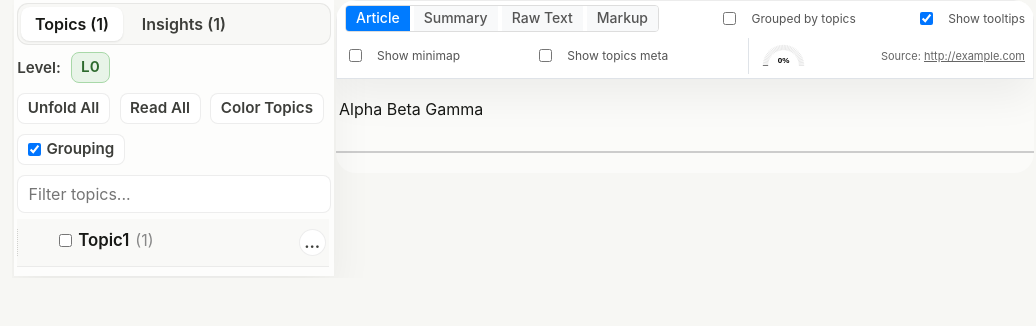
Test: TextPage raw text navigation › opens topic menu when [source] is clicked on a bullet
This screenshot has width=1036, height=326.
Expected: the text "Source:" is shown, [881,49,921,63]
Click the button "Summary" at {"x": 456, "y": 18}, box [414,6,498,31]
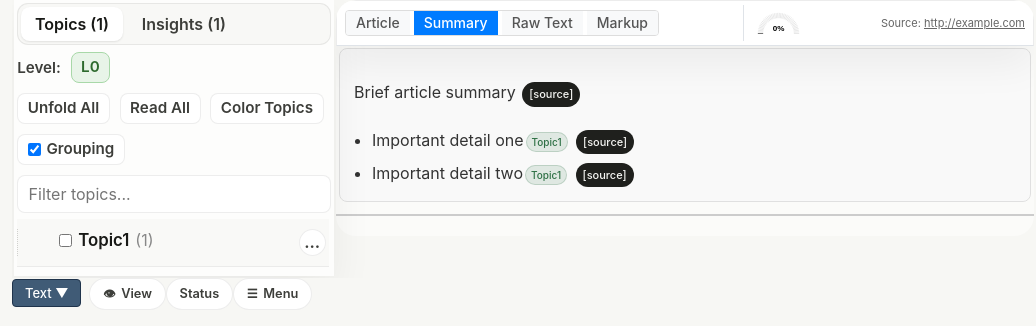
Click the button "[source]" next to "Brief article summary" at {"x": 551, "y": 94}, box [522,82,580,106]
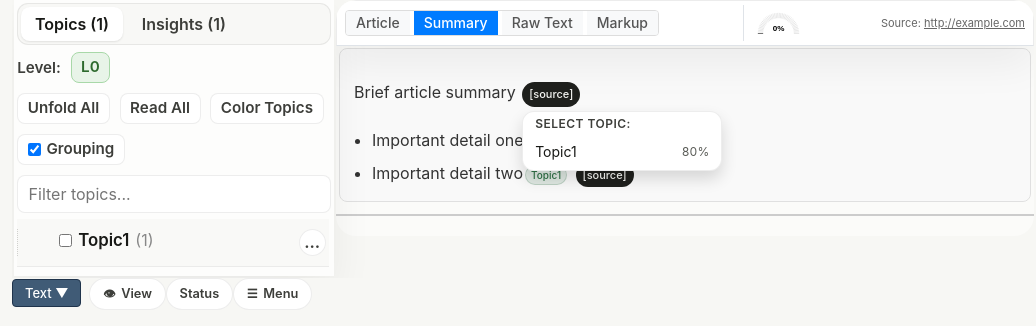
Expected: the text "Select topic:" is shown, [535,116,631,130]
Expected: the menu item "Topic1 80%" is shown, [523,136,721,166]
